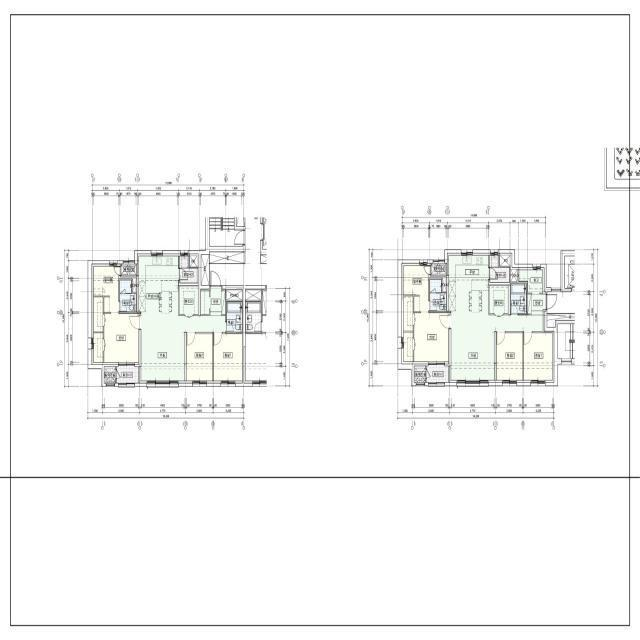space_balconi: (180, 254, 198, 283), (490, 256, 509, 282), (117, 365, 139, 383), (427, 365, 449, 382)
space_bedroom: (104, 313, 139, 365), (414, 313, 449, 364), (524, 332, 554, 382), (214, 334, 242, 383), (187, 334, 213, 383), (497, 333, 522, 382)
space_elevator_hall: (210, 217, 267, 285)
space_front: (201, 287, 226, 316), (528, 292, 546, 315)
space_kitchen: (447, 253, 489, 315), (137, 254, 178, 316)
space_living_room: (450, 315, 544, 382), (140, 316, 225, 383)
space_other: (92, 264, 120, 313), (402, 264, 430, 312), (519, 268, 544, 293), (179, 286, 198, 314), (490, 285, 508, 314), (210, 252, 245, 263), (92, 297, 103, 332), (402, 296, 413, 331), (92, 333, 103, 365), (402, 332, 413, 364), (201, 255, 209, 285), (121, 264, 136, 276), (431, 263, 446, 275), (500, 253, 512, 266), (227, 290, 242, 300), (190, 254, 198, 267), (511, 268, 517, 282), (133, 277, 136, 292), (443, 277, 446, 291)
space_outdoor_room: (414, 366, 426, 382), (104, 367, 116, 383)
space_staircase: (210, 217, 243, 246)
space_toilet: (120, 280, 136, 312), (430, 279, 446, 311), (511, 283, 526, 314), (227, 302, 242, 332)
